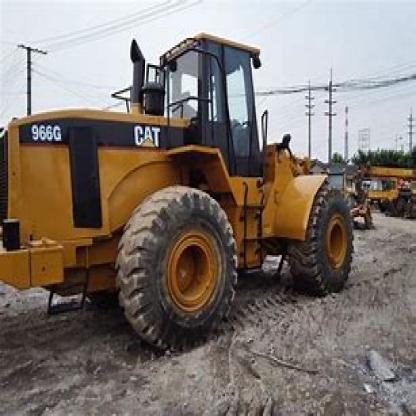bull_dozer/loader/grader: (7, 23, 356, 356)
